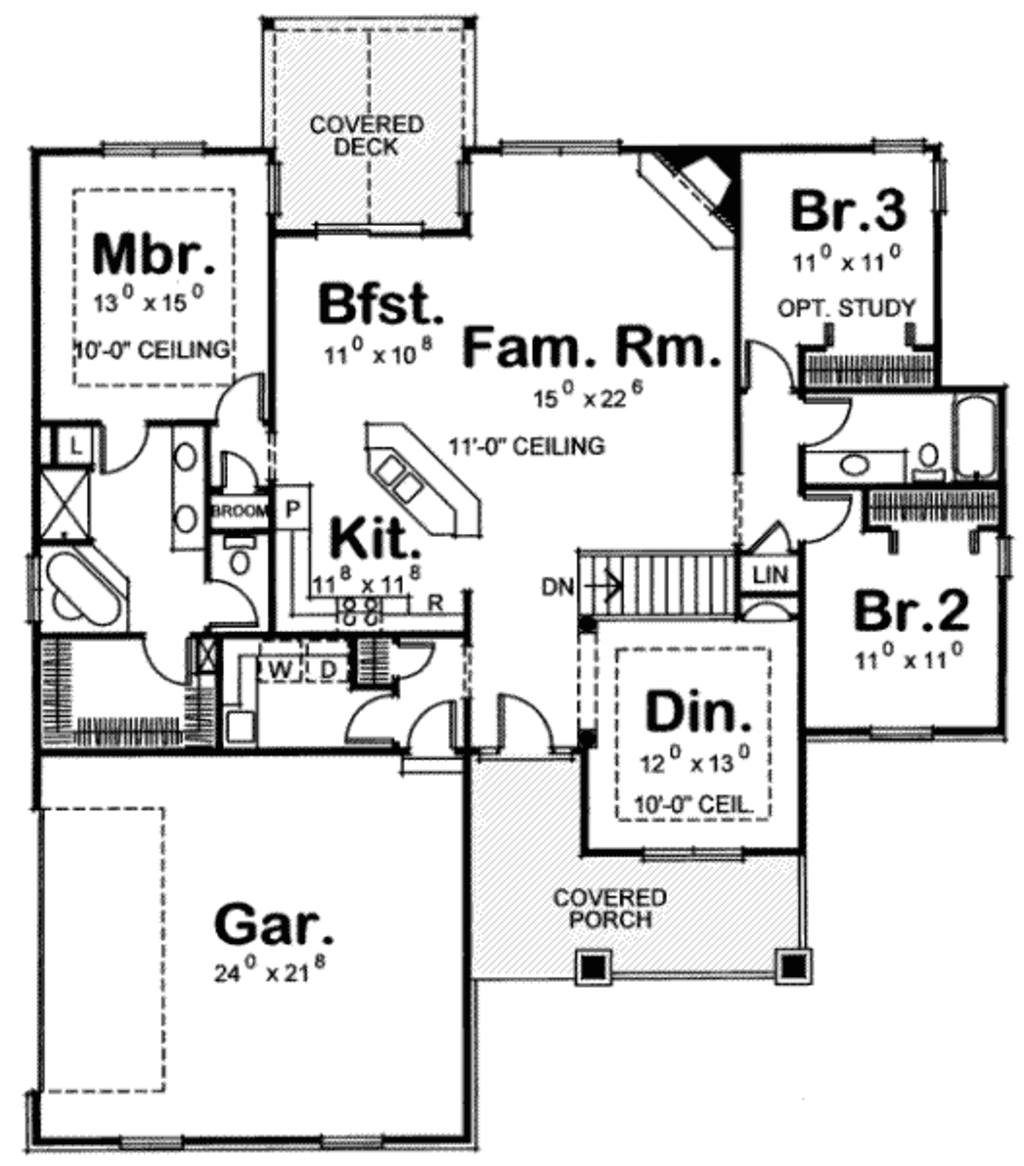door: (476, 685, 570, 763), (390, 695, 466, 776), (791, 388, 860, 450), (214, 360, 278, 424), (93, 415, 152, 480), (742, 330, 798, 396), (336, 689, 394, 748), (793, 489, 849, 550), (198, 577, 261, 630), (134, 638, 187, 691), (381, 643, 444, 684), (738, 515, 795, 559), (216, 447, 260, 494)
kitchen_bar: (348, 397, 499, 551)
large_sink: (218, 524, 266, 583), (911, 433, 957, 483)
small_sink: (158, 424, 206, 562)
stairs: (576, 527, 731, 631)
tub: (951, 388, 1013, 488)
twin_sink: (370, 447, 442, 512)
window: (484, 133, 626, 160), (638, 838, 749, 871), (88, 133, 211, 161), (861, 718, 937, 750), (926, 159, 960, 215), (869, 132, 928, 161)
